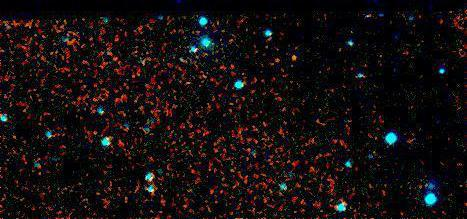star: (282, 41, 312, 71)
